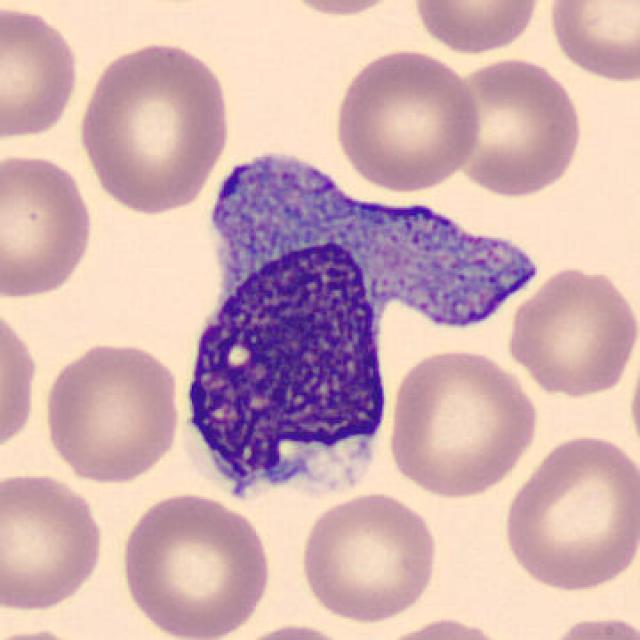Basophil: (171, 134, 543, 529)
RBC: (73, 37, 233, 219), (384, 344, 540, 501), (116, 488, 276, 640), (498, 428, 640, 596), (329, 46, 485, 194), (39, 336, 185, 486), (295, 488, 443, 624), (448, 55, 587, 199), (503, 262, 638, 398), (0, 467, 108, 615), (0, 150, 98, 303), (0, 2, 82, 143), (542, 0, 638, 85), (409, 0, 544, 56), (0, 298, 41, 460), (371, 613, 515, 640), (537, 610, 640, 640), (222, 619, 366, 640), (267, 0, 414, 18), (626, 324, 640, 480)
